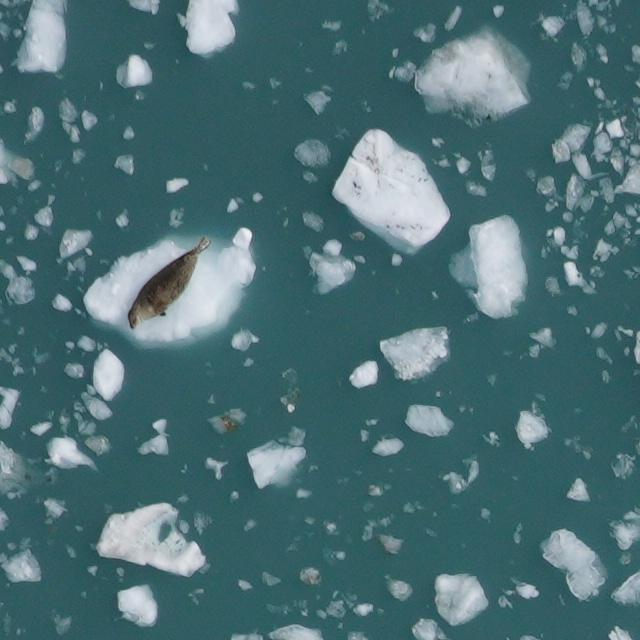seal: (127, 236, 211, 328)
